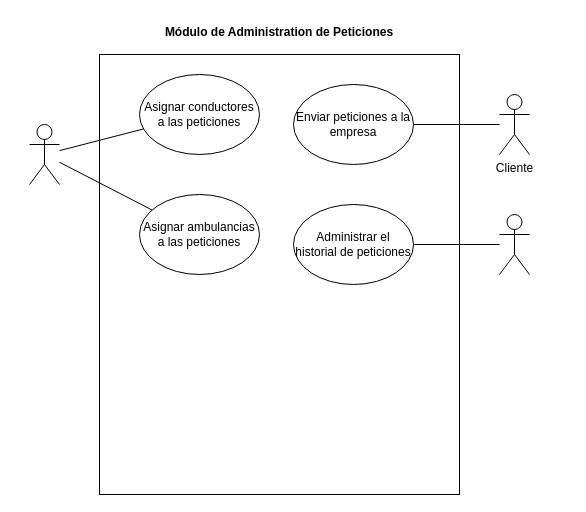
Some shapes in this 586 by 512 pixel diagram are drawn without their labels. The shapes that lost their labels are listed below. From the top down, each one's centre as x and y in pixels, then its label:
(44,154): Secretaria
(514,244): Gerente Autenticado
